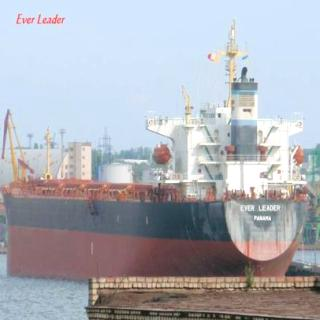Bulk Carrier: (0, 59, 311, 278)
